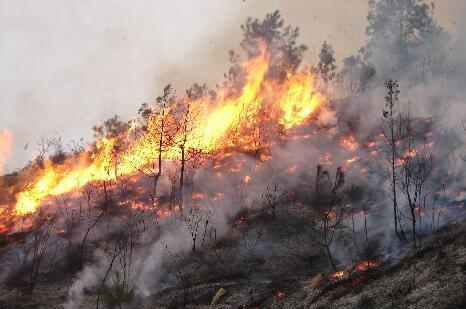fire: (1, 40, 331, 228)
yanwu: (76, 60, 466, 288)
